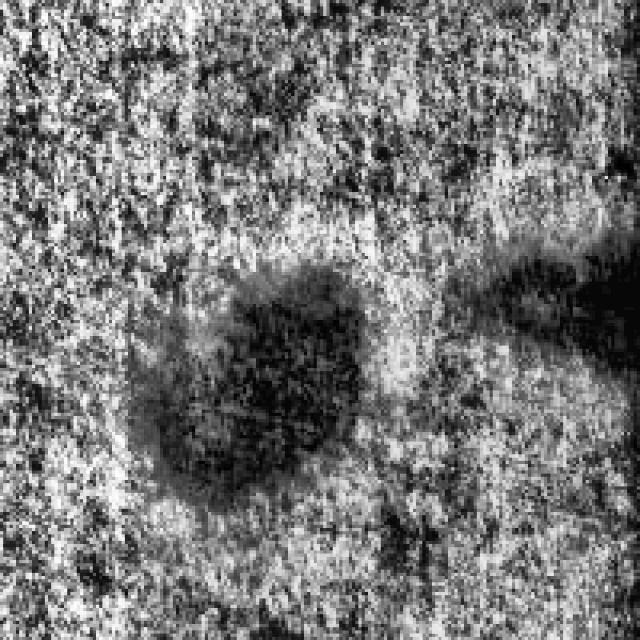Scratches: (147, 262, 381, 509), (480, 214, 640, 390)
